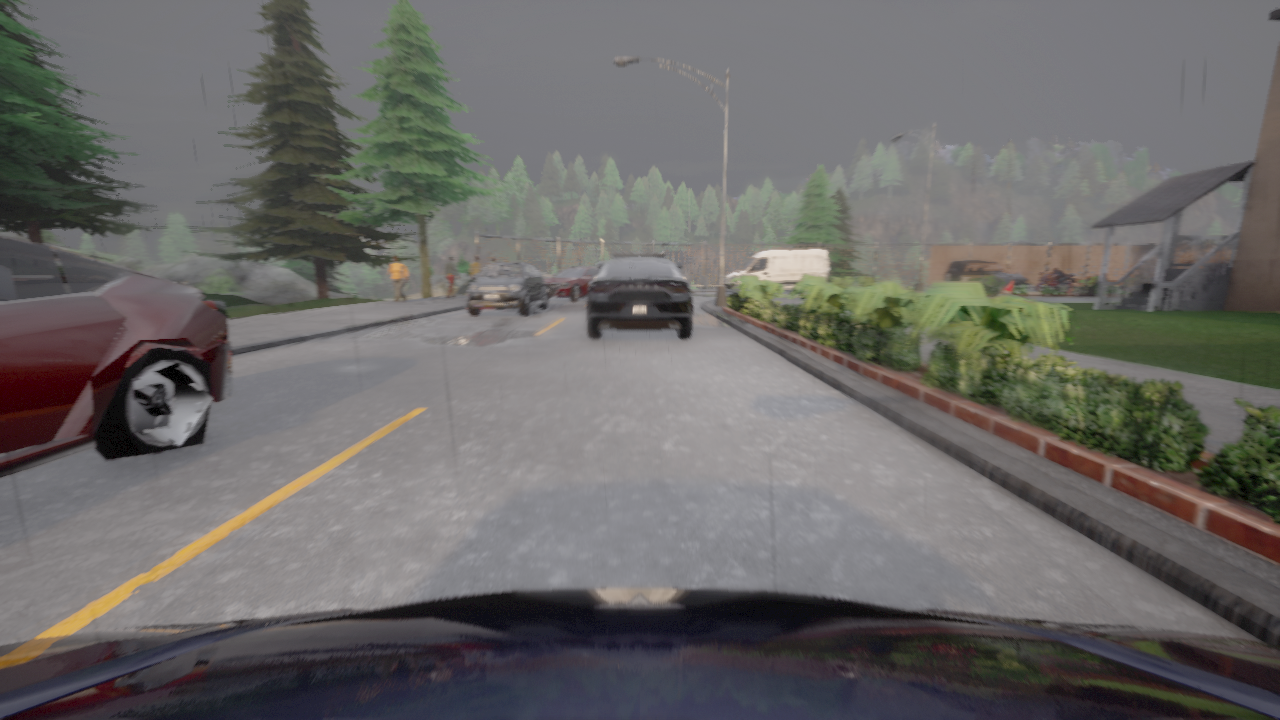cyclist: (0, 588, 1279, 719), (587, 252, 692, 338), (724, 249, 829, 293), (467, 262, 547, 315), (944, 260, 1032, 291), (544, 266, 599, 301), (1036, 273, 1075, 293)
pedestrian: (387, 255, 408, 301), (444, 256, 459, 298), (470, 256, 481, 279), (492, 258, 495, 262), (504, 259, 507, 261)
